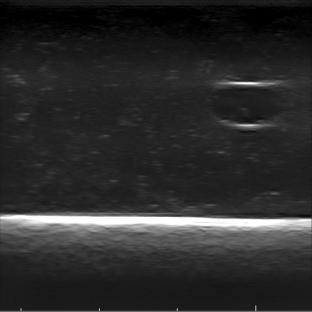vessel: (209, 80, 284, 129)
